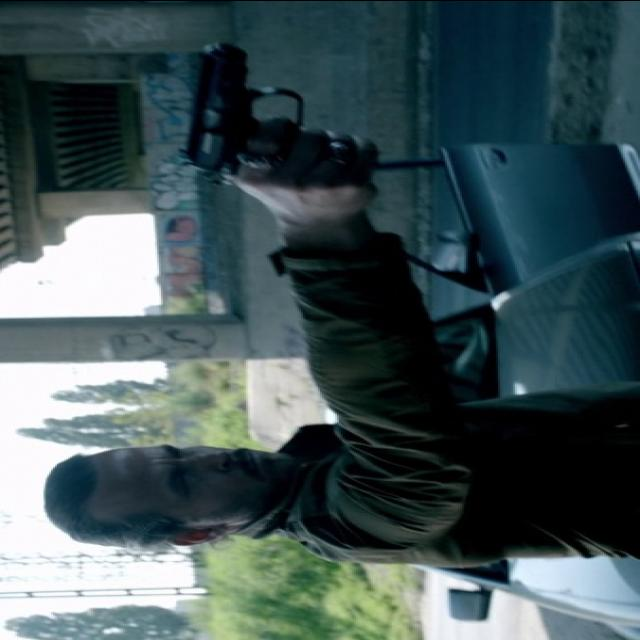weapons: (132, 33, 386, 195)
